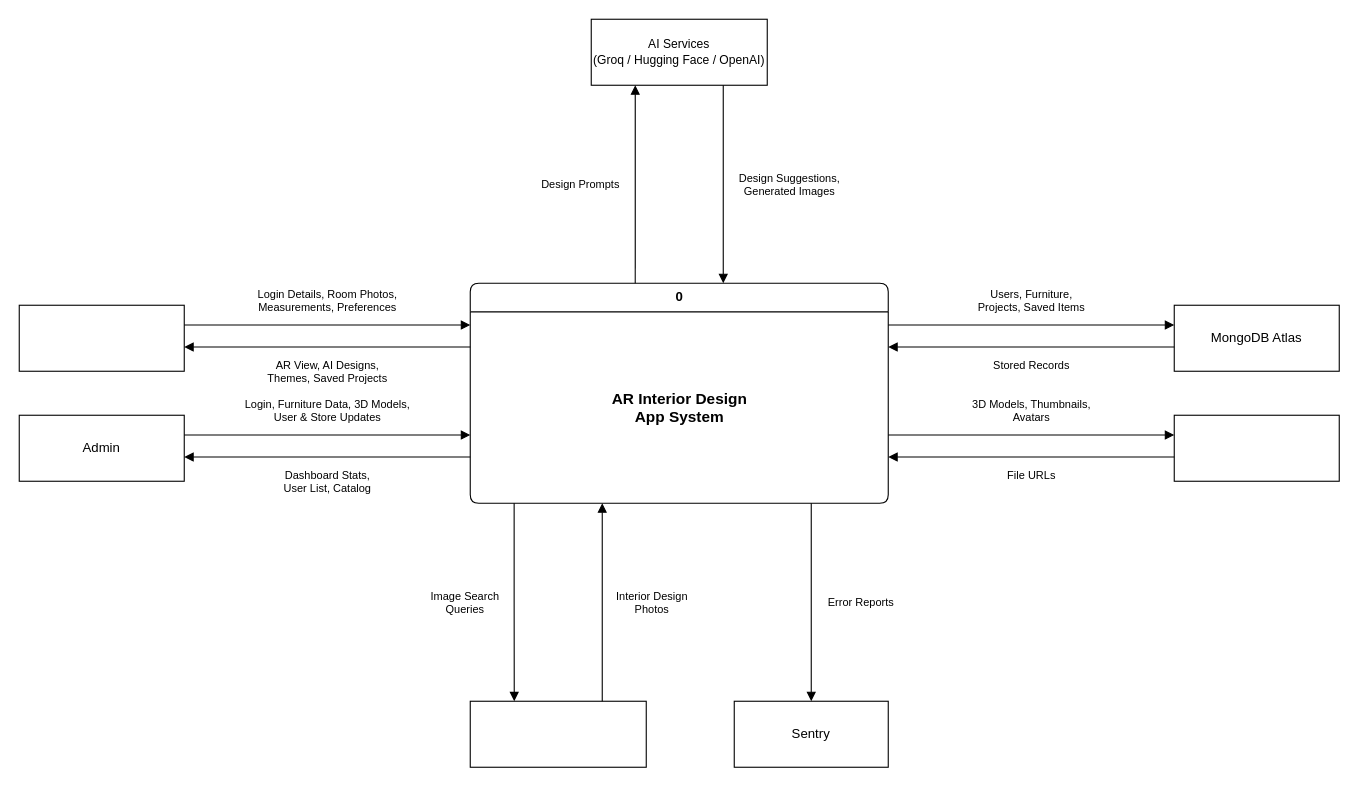
The diagram is 1359 pixels wide and 787 high, and some of its shapes have lost their labels. The shapes that lost their labels are listed below. From the top down, each one's centre as x and y in pixels, then its label:
At pixel 101 337: "User".
At pixel 1256 447: "Google Cloud Storage".
At pixel 557 733: "Pexels Image API".
